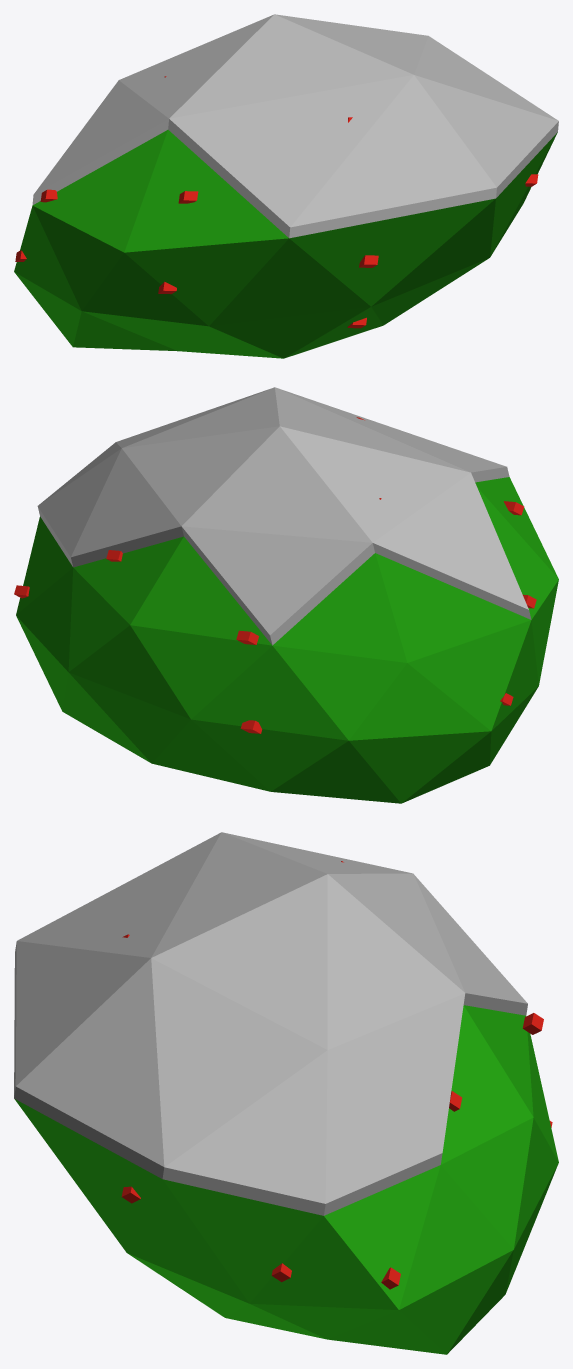
The model's file is Bush_4 Winter.fbx.
3 renders of one model, top to bottom at view 1: azimuth 30°, elevation 25°; view 2: azimuth 150°, elevation 25°; view 3: azimuth 270°, elevation 25°, orthographic. The views are drawn at different scales.
Parts seen in each view (by area): view 1: Bush4Winter_mesh; view 2: Bush4Winter_mesh; view 3: Bush4Winter_mesh.
Boxes of the visible parts, x1,y1,x2,y2 form: Bush4Winter_mesh: (14, 14, 558, 358); Bush4Winter_mesh: (14, 387, 558, 803); Bush4Winter_mesh: (14, 832, 558, 1354).
Bounding box in the file's own units: 241 × 152 × 181.
